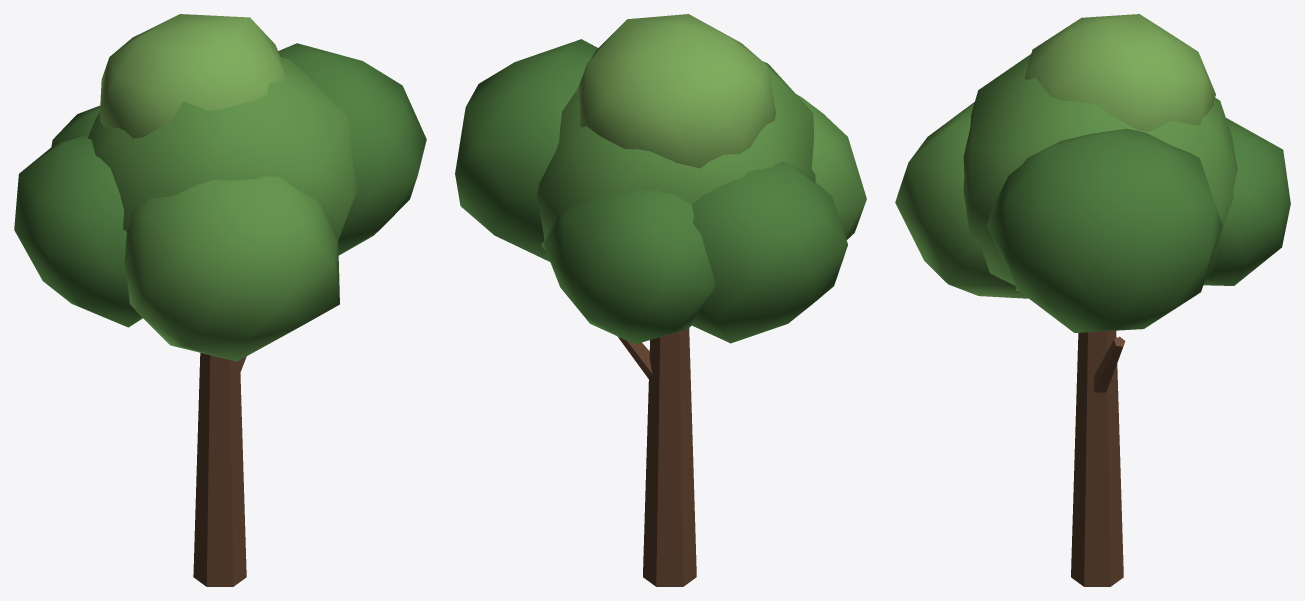
The model's file is Tree_Round_B.fbx.
3 renders of one model, left to right at view 1: azimuth 30°, elevation 25°; view 2: azimuth 150°, elevation 25°; view 3: azimuth 270°, elevation 25°, orthographic.
Parts seen in each view (by area): view 1: Tree_Round_B; view 2: Tree_Round_B; view 3: Tree_Round_B.
Boxes of the visible parts, x1,y1,x2,y2 form: Tree_Round_B: [14, 14, 426, 586]; Tree_Round_B: [455, 14, 866, 586]; Tree_Round_B: [895, 14, 1290, 586].
Size of the model in its own units: 2.39 by 3.43 by 2.24.
